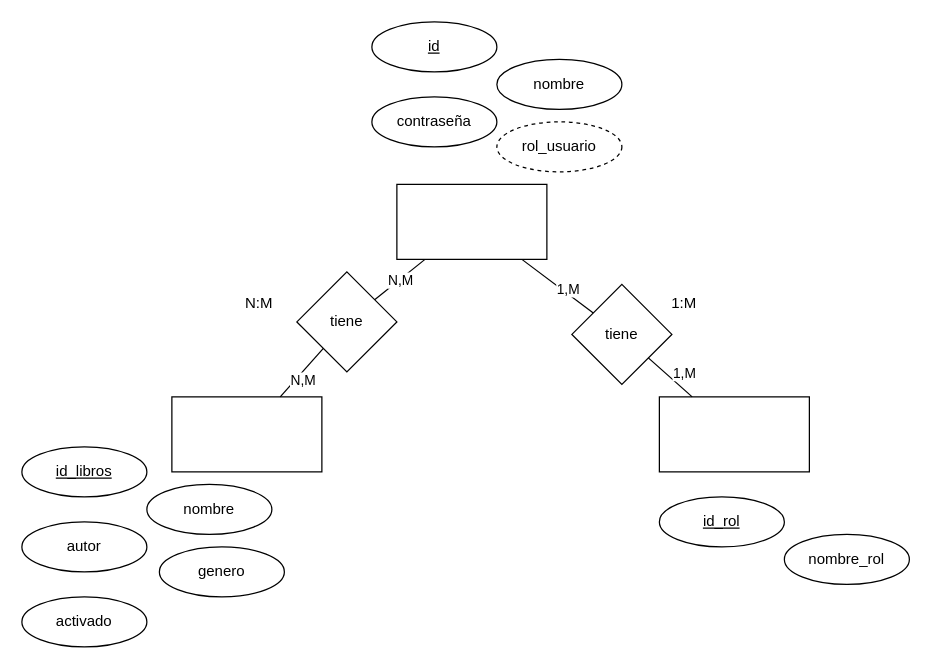
This 931x669 diagram has some shape labels left out. Each missing label, with the centre of its shape:
Libros: the point at 246,434
Roles: the point at 733,434
Usuario: the point at 471,221
